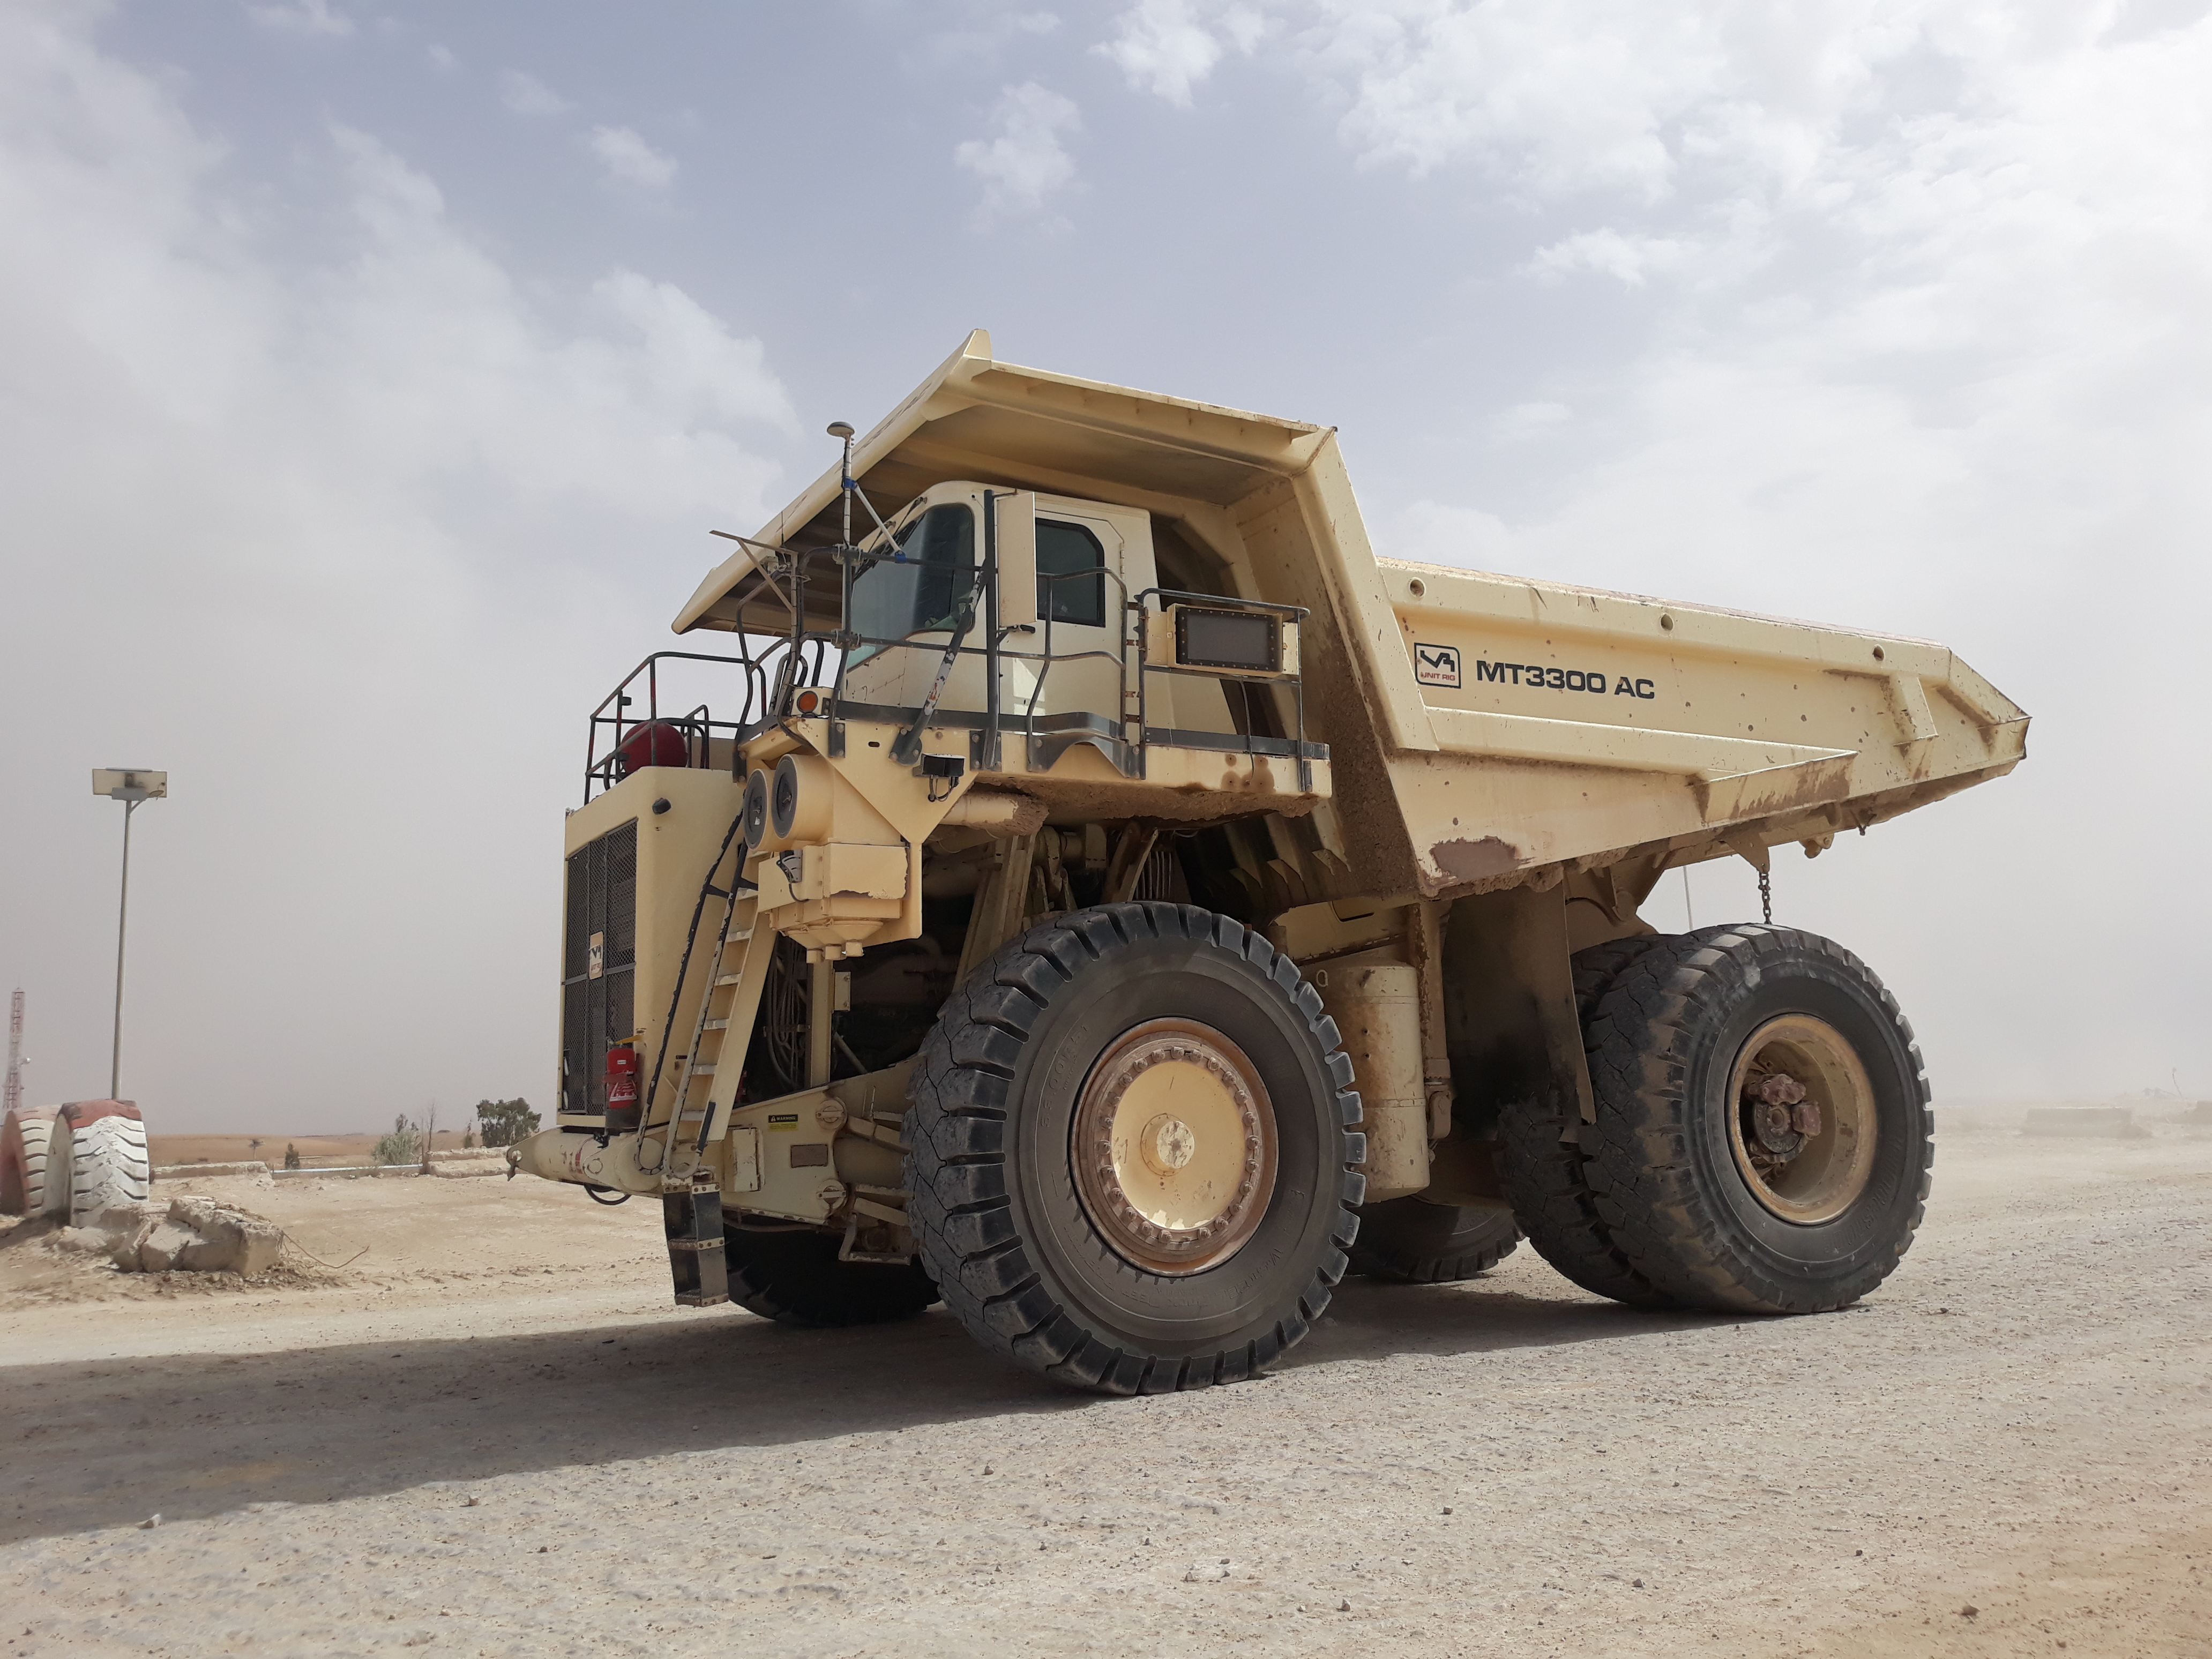camion: (509, 326, 2054, 1406)
